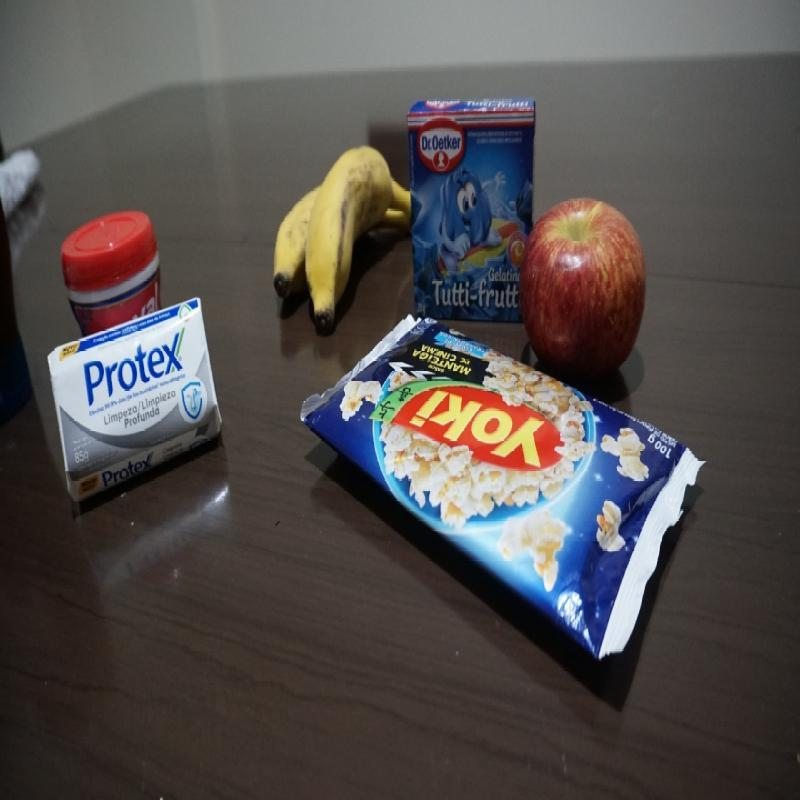Apple: (519, 190, 648, 384)
Banana: (271, 146, 413, 337)
Gelatine: (404, 96, 539, 328)
Popcorn: (302, 312, 709, 666)
Soap: (47, 295, 222, 505)
Yeast: (57, 209, 166, 342)
